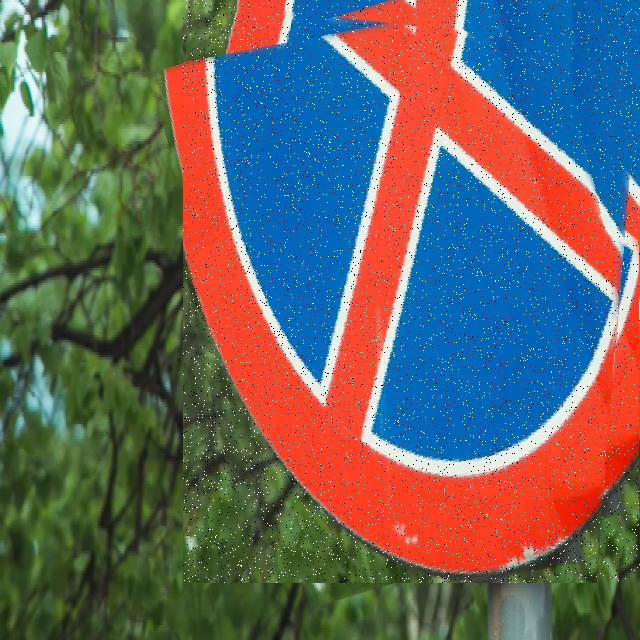no stopping: (183, 0, 640, 583)
